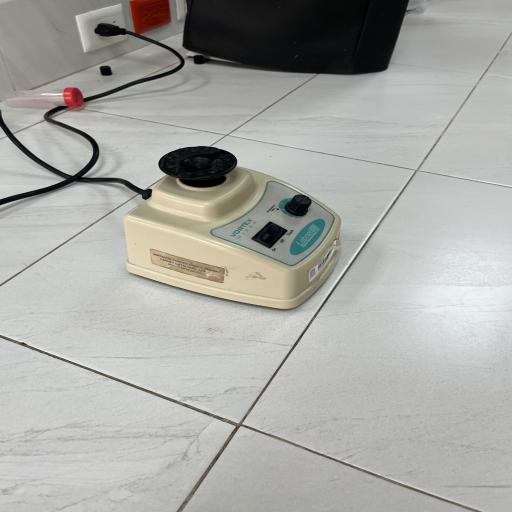Vortex_Mixer_LabNet: (98, 134, 376, 314)
